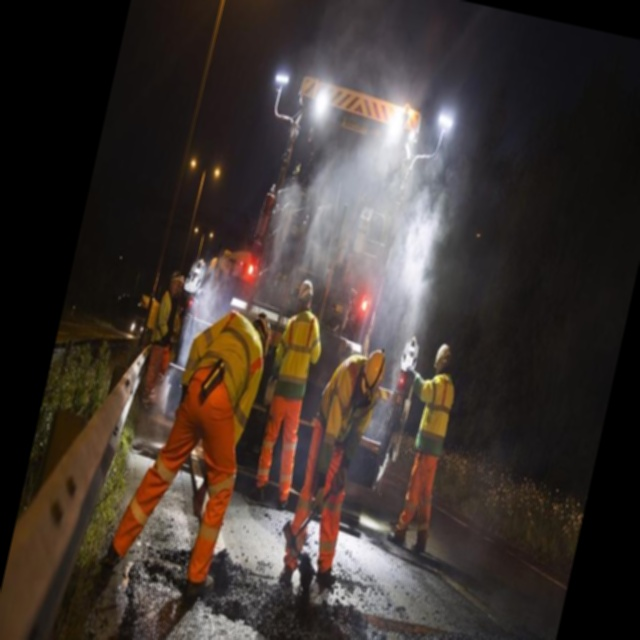Con_Casco: (357, 345, 390, 407), (296, 277, 317, 310)
Con_Chaleco: (274, 307, 321, 396), (412, 372, 458, 459)
